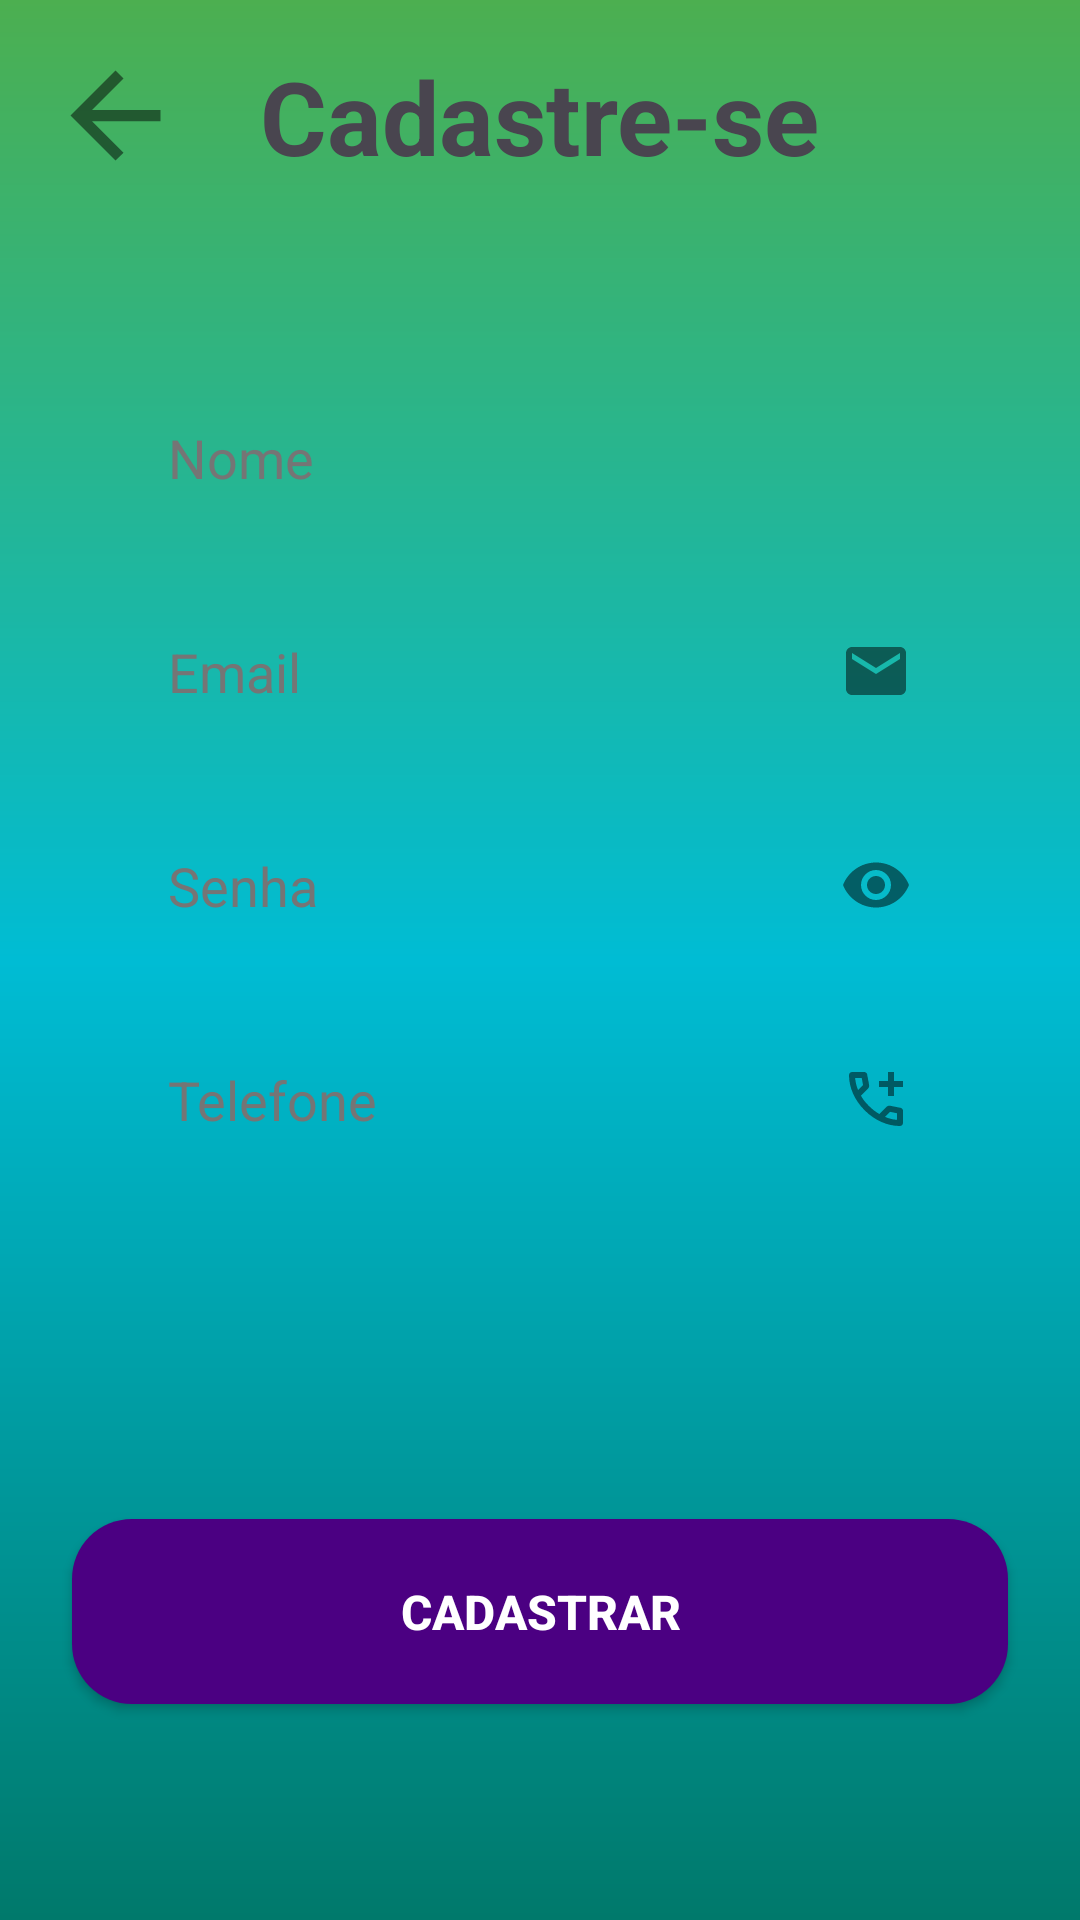

Icons on this 1080w x 1920h Android screen, each with the point to tap as [x,y]:
seta return: [116,115]
